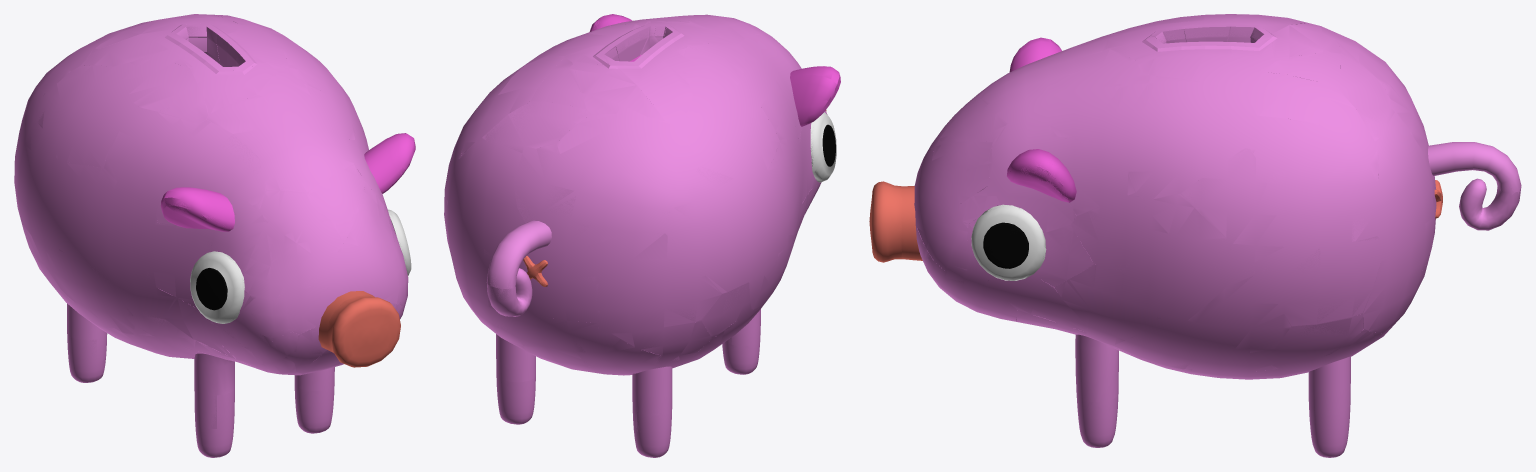
The model's file is Pig.fbx.
3 renders of one model, left to right at view 1: azimuth 30°, elevation 25°; view 2: azimuth 150°, elevation 25°; view 3: azimuth 270°, elevation 25°, orthographic. The views are drawn at different scales.
Visible parts, largest first — view 1: PigMoneyBox, PigMoneyBox.022_cell.105, PigMoneyBox.022_cell.070, PigMoneyBox.022_cell.046, PigMoneyBox.022_cell.204, PigMoneyBox.022_cell.031, PigMoneyBox.022_cell.049, PigMoneyBox.022_cell.112, PigMoneyBox.022_cell.010, PigMoneyBox.022_cell.051, PigMoneyBox.022_cell.036, PigMoneyBox.022_cell.008 (+24 smaller); view 2: PigMoneyBox, PigMoneyBox.022_cell.065, PigMoneyBox.022_cell.064, PigMoneyBox.022_cell.046, PigMoneyBox.022_cell.061, PigMoneyBox.022_cell.105, PigMoneyBox.022_cell.091, PigMoneyBox.022_cell.090, PigMoneyBox.022_cell.062, PigMoneyBox.022_cell.088, PigMoneyBox.022_cell.204, PigMoneyBox.022_cell.053 (+18 smaller); view 3: PigMoneyBox, PigMoneyBox.022_cell.040, PigMoneyBox.022_cell.052, PigMoneyBox.022_cell.075, PigMoneyBox.022_cell.042, PigMoneyBox.022_cell.058, PigMoneyBox.022_cell.064, PigMoneyBox.022_cell.204, PigMoneyBox.022_cell.060, PigMoneyBox.022_cell.031, PigMoneyBox.022_cell.059, PigMoneyBox.022_cell.061 (+15 smaller).
Boxes of the visible parts, x1=… form: PigMoneyBox: x1=14, y1=14, x2=415, y2=457; PigMoneyBox.022_cell.105: x1=122, y1=59, x2=208, y2=123; PigMoneyBox.022_cell.070: x1=207, y1=95, x2=301, y2=133; PigMoneyBox.022_cell.046: x1=80, y1=27, x2=188, y2=66; PigMoneyBox.022_cell.204: x1=216, y1=31, x2=288, y2=68; PigMoneyBox.022_cell.031: x1=308, y1=165, x2=365, y2=241; PigMoneyBox.022_cell.049: x1=45, y1=246, x2=134, y2=336; PigMoneyBox.022_cell.112: x1=164, y1=187, x2=234, y2=223; PigMoneyBox.022_cell.010: x1=199, y1=387, x2=234, y2=457; PigMoneyBox.022_cell.051: x1=56, y1=65, x2=118, y2=167; PigMoneyBox.022_cell.036: x1=156, y1=120, x2=266, y2=225; PigMoneyBox.022_cell.008: x1=194, y1=354, x2=234, y2=428; PigMoneyBox: x1=444, y1=14, x2=836, y2=457; PigMoneyBox.022_cell.065: x1=512, y1=143, x2=599, y2=253; PigMoneyBox.022_cell.064: x1=482, y1=101, x2=589, y2=152; PigMoneyBox.022_cell.046: x1=617, y1=61, x2=692, y2=128; PigMoneyBox.022_cell.061: x1=575, y1=62, x2=659, y2=118; PigMoneyBox.022_cell.105: x1=682, y1=43, x2=745, y2=89; PigMoneyBox.022_cell.091: x1=488, y1=299, x2=598, y2=358; PigMoneyBox.022_cell.090: x1=613, y1=233, x2=720, y2=327; PigMoneyBox.022_cell.062: x1=484, y1=249, x2=599, y2=320; PigMoneyBox.022_cell.088: x1=661, y1=167, x2=742, y2=293; PigMoneyBox.022_cell.204: x1=561, y1=24, x2=650, y2=61; PigMoneyBox.022_cell.053: x1=556, y1=114, x2=693, y2=257; PigMoneyBox: x1=869, y1=14, x2=1521, y2=457; PigMoneyBox.022_cell.040: x1=1181, y1=148, x2=1283, y2=261; PigMoneyBox.022_cell.052: x1=1263, y1=236, x2=1380, y2=326; PigMoneyBox.022_cell.075: x1=1241, y1=72, x2=1354, y2=123; PigMoneyBox.022_cell.042: x1=1188, y1=276, x2=1290, y2=352; PigMoneyBox.022_cell.058: x1=1268, y1=171, x2=1379, y2=241; PigMoneyBox.022_cell.064: x1=1339, y1=53, x2=1394, y2=141; PigMoneyBox.022_cell.204: x1=1148, y1=41, x2=1240, y2=87; PigMoneyBox.022_cell.060: x1=1145, y1=194, x2=1254, y2=285; PigMoneyBox.022_cell.031: x1=935, y1=97, x2=1006, y2=146; PigMoneyBox.022_cell.059: x1=1038, y1=225, x2=1093, y2=286; PigMoneyBox.022_cell.061: x1=1271, y1=23, x2=1343, y2=57.
Bounding box in the file's own units: 156 × 179 × 275.
